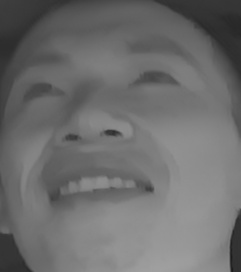eye: (130, 59, 184, 100), (14, 76, 69, 110)
mouth: (45, 162, 154, 224)
